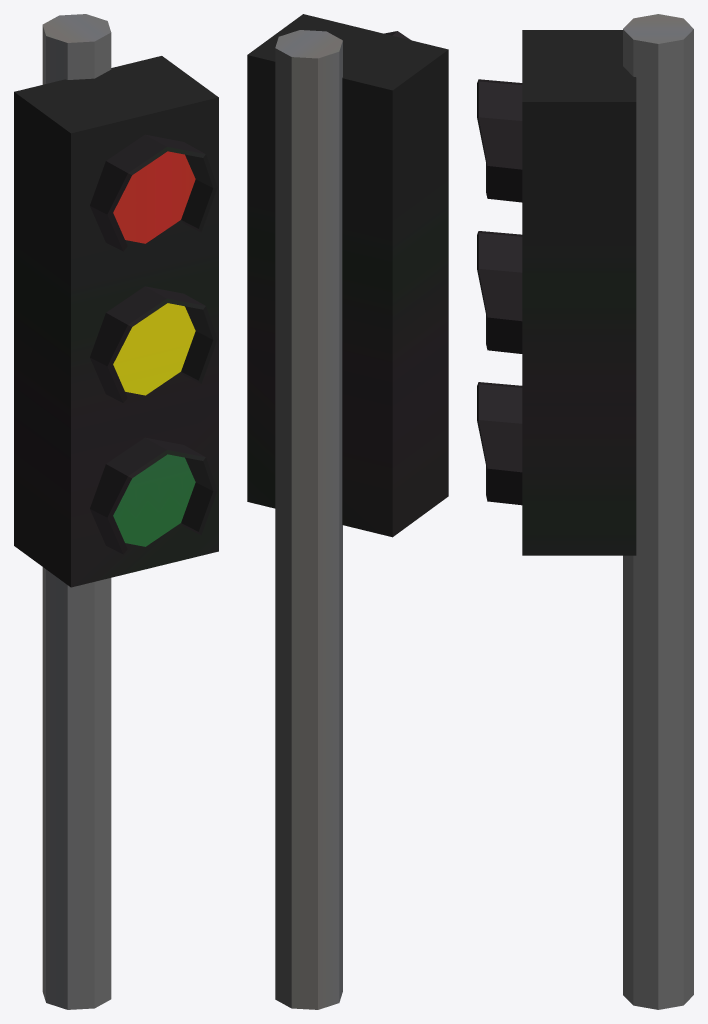
The model's file is TrafficLight .fbx.
3 renders of one model, left to right at view 1: azimuth 30°, elevation 25°; view 2: azimuth 150°, elevation 25°; view 3: azimuth 270°, elevation 25°, orthographic.
Visible parts, largest first — view 1: TrafficLight; view 2: TrafficLight; view 3: TrafficLight.
Part boxes in pixels (<box>): TrafficLight: <box>14,14,218,1009</box>; TrafficLight: <box>247,14,448,1009</box>; TrafficLight: <box>477,14,693,1009</box>.
Bounding box in the file's own units: 48 × 300 × 61.05.
